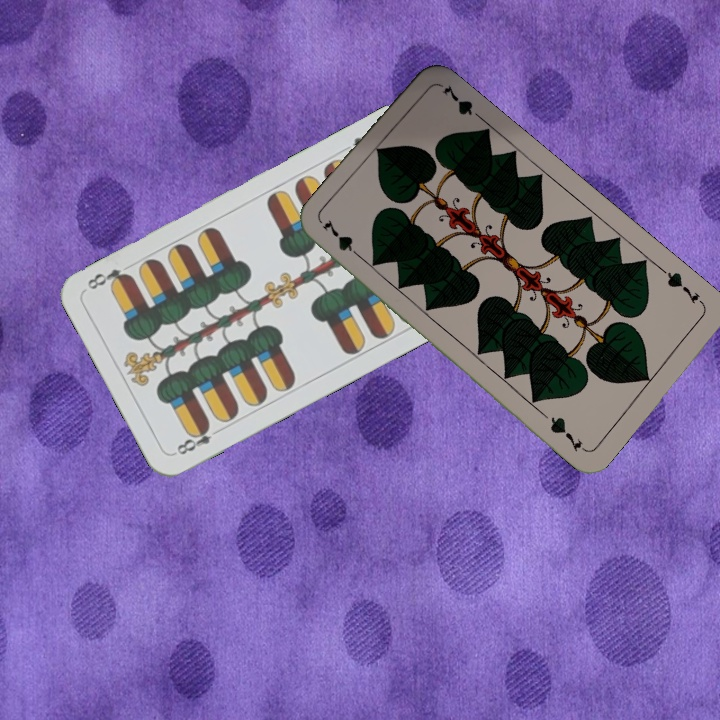E8: (170, 420, 225, 458)
G7: (318, 218, 368, 264), (658, 265, 708, 309)
